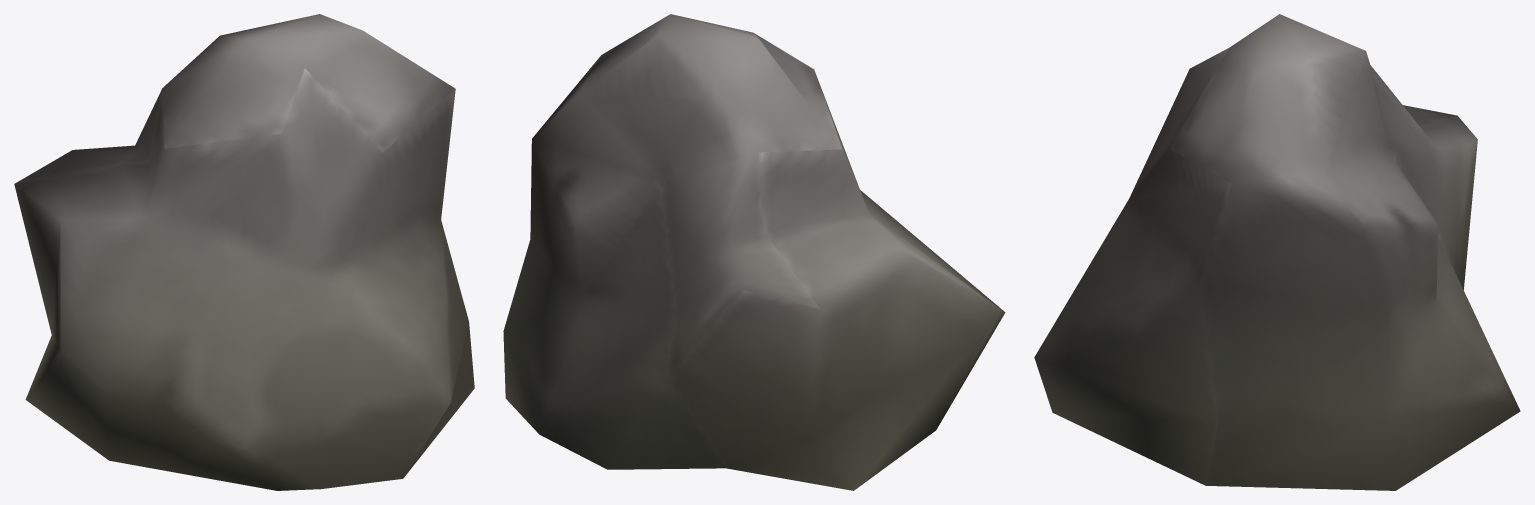
The model's file is Stones_Medium_01.FBX.
3 views of the same model, side by side, from view 1: azimuth 30°, elevation 25°; view 2: azimuth 150°, elevation 25°; view 3: azimuth 270°, elevation 25° (orthographic). The views are drawn at different scales.
Visible parts, largest first — view 1: Stones_Medium_01; view 2: Stones_Medium_01; view 3: Stones_Medium_01.
Boxes of the visible parts, <box> form: Stones_Medium_01: <box>14,14,474,490</box>; Stones_Medium_01: <box>503,14,1005,490</box>; Stones_Medium_01: <box>1034,14,1520,490</box>.
Bounding box in the file's own units: 507 × 422 × 494.
